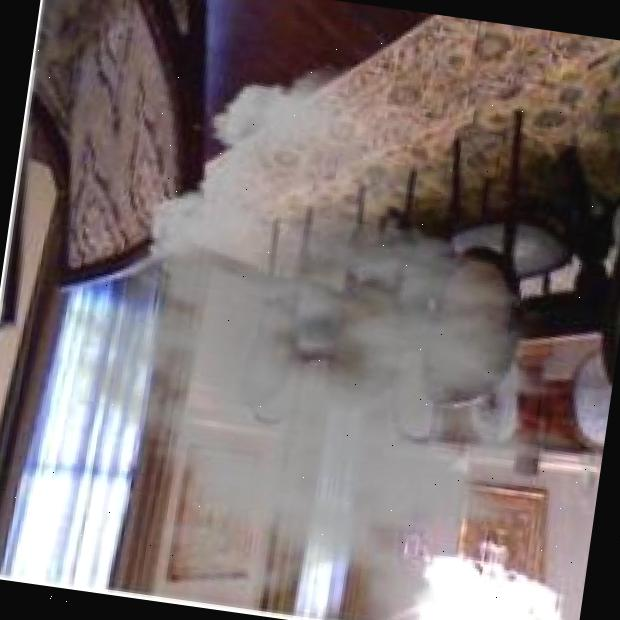smoke: (27, 31, 620, 620)
